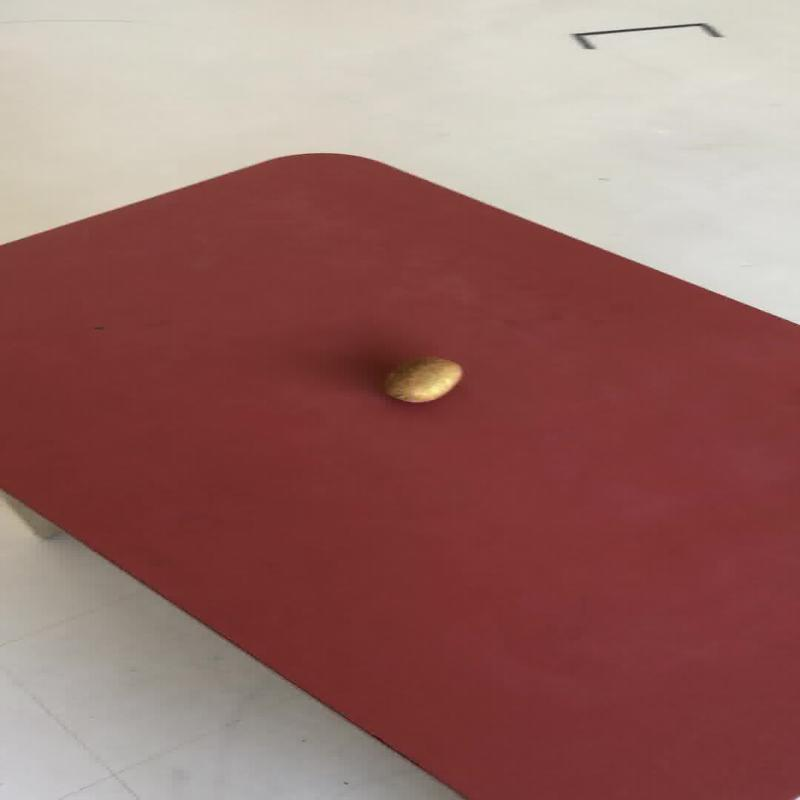kiwi: (381, 355, 462, 403)
